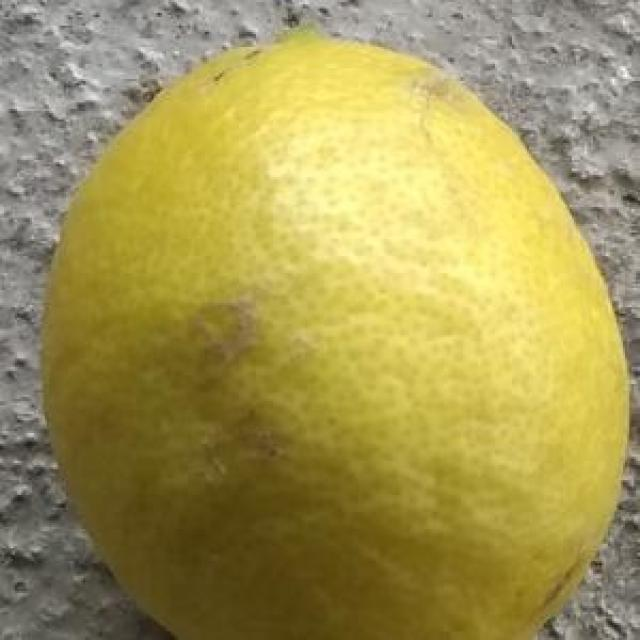lemon: (41, 29, 640, 640)
